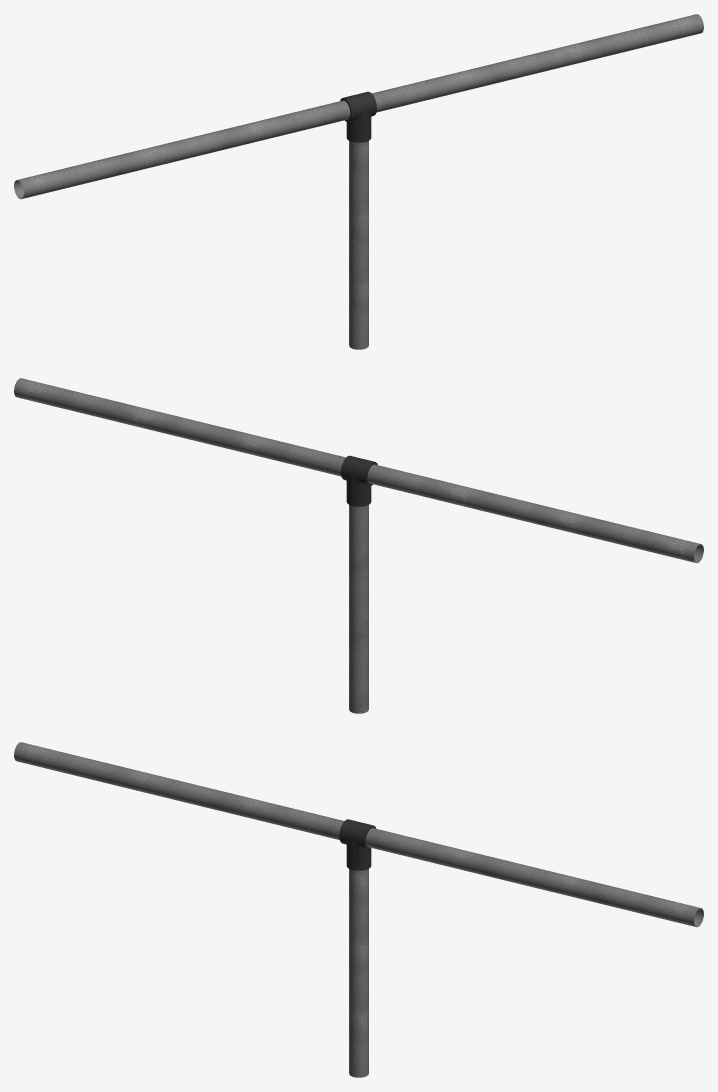
File: HandRail.fbx
3 renders of one model, top to bottom at view 1: azimuth 30°, elevation 25°; view 2: azimuth 150°, elevation 25°; view 3: azimuth 330°, elevation 25°, orthographic.
Parts seen in each view (by area): view 1: Rail; view 2: Rail; view 3: Rail.
Boxes of the visible parts, x1,y1,x2,y2 form: Rail: (14, 14, 703, 349); Rail: (14, 378, 703, 713); Rail: (14, 742, 703, 1077).
Bounding box in the file's own units: 5 × 1.76 × 0.1587.
